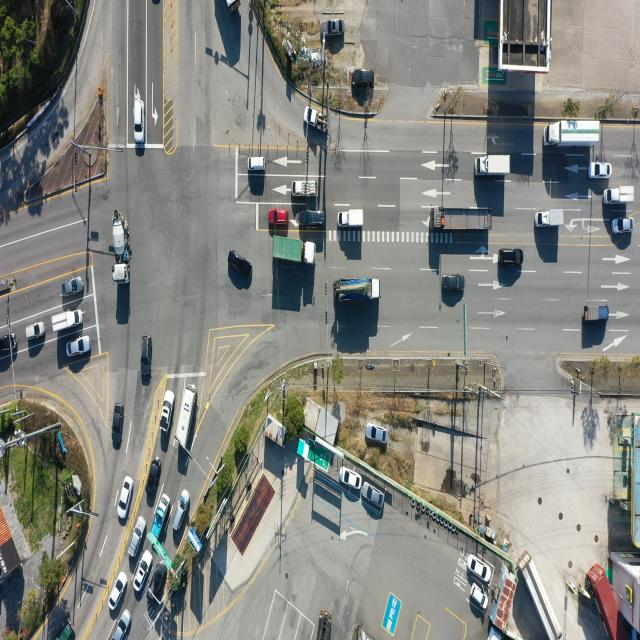car: (170, 488, 190, 531), (133, 549, 153, 591), (129, 515, 147, 558), (228, 249, 252, 281), (145, 459, 162, 504), (108, 572, 127, 611), (116, 478, 132, 520), (113, 609, 134, 640), (161, 390, 175, 436), (152, 564, 168, 600), (471, 556, 492, 583), (320, 18, 347, 39), (114, 404, 126, 451), (362, 484, 384, 509), (299, 208, 325, 229), (66, 338, 90, 360), (134, 96, 145, 143), (340, 466, 362, 489), (470, 584, 488, 611), (500, 248, 525, 267), (62, 277, 85, 297), (141, 336, 151, 382), (0, 333, 18, 358), (364, 423, 386, 443), (352, 68, 375, 87), (589, 163, 612, 181), (26, 320, 46, 340), (444, 274, 466, 292), (613, 216, 634, 234), (270, 210, 288, 226), (247, 158, 266, 173)
medium_truck: (524, 558, 564, 640), (429, 208, 492, 232), (269, 233, 317, 264), (110, 208, 130, 282), (544, 125, 602, 148), (334, 277, 380, 302), (476, 152, 512, 177), (315, 607, 333, 640), (292, 179, 319, 197), (225, 0, 240, 13)
small_bus: (178, 385, 200, 449)
small_truck: (150, 493, 170, 541), (50, 308, 83, 334), (305, 102, 330, 134), (606, 187, 636, 207), (536, 209, 566, 228), (340, 210, 365, 228), (582, 304, 607, 322), (56, 620, 74, 640)
